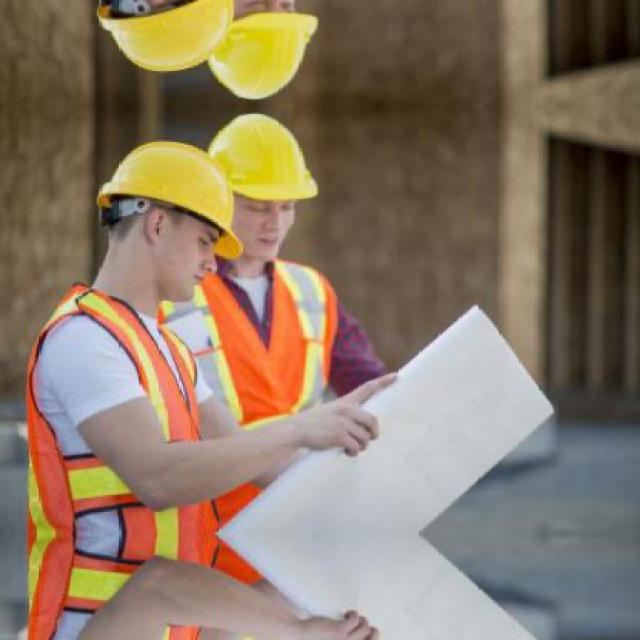helmet: (101, 120, 254, 298), (181, 110, 317, 279), (102, 0, 256, 94), (180, 0, 317, 105)
